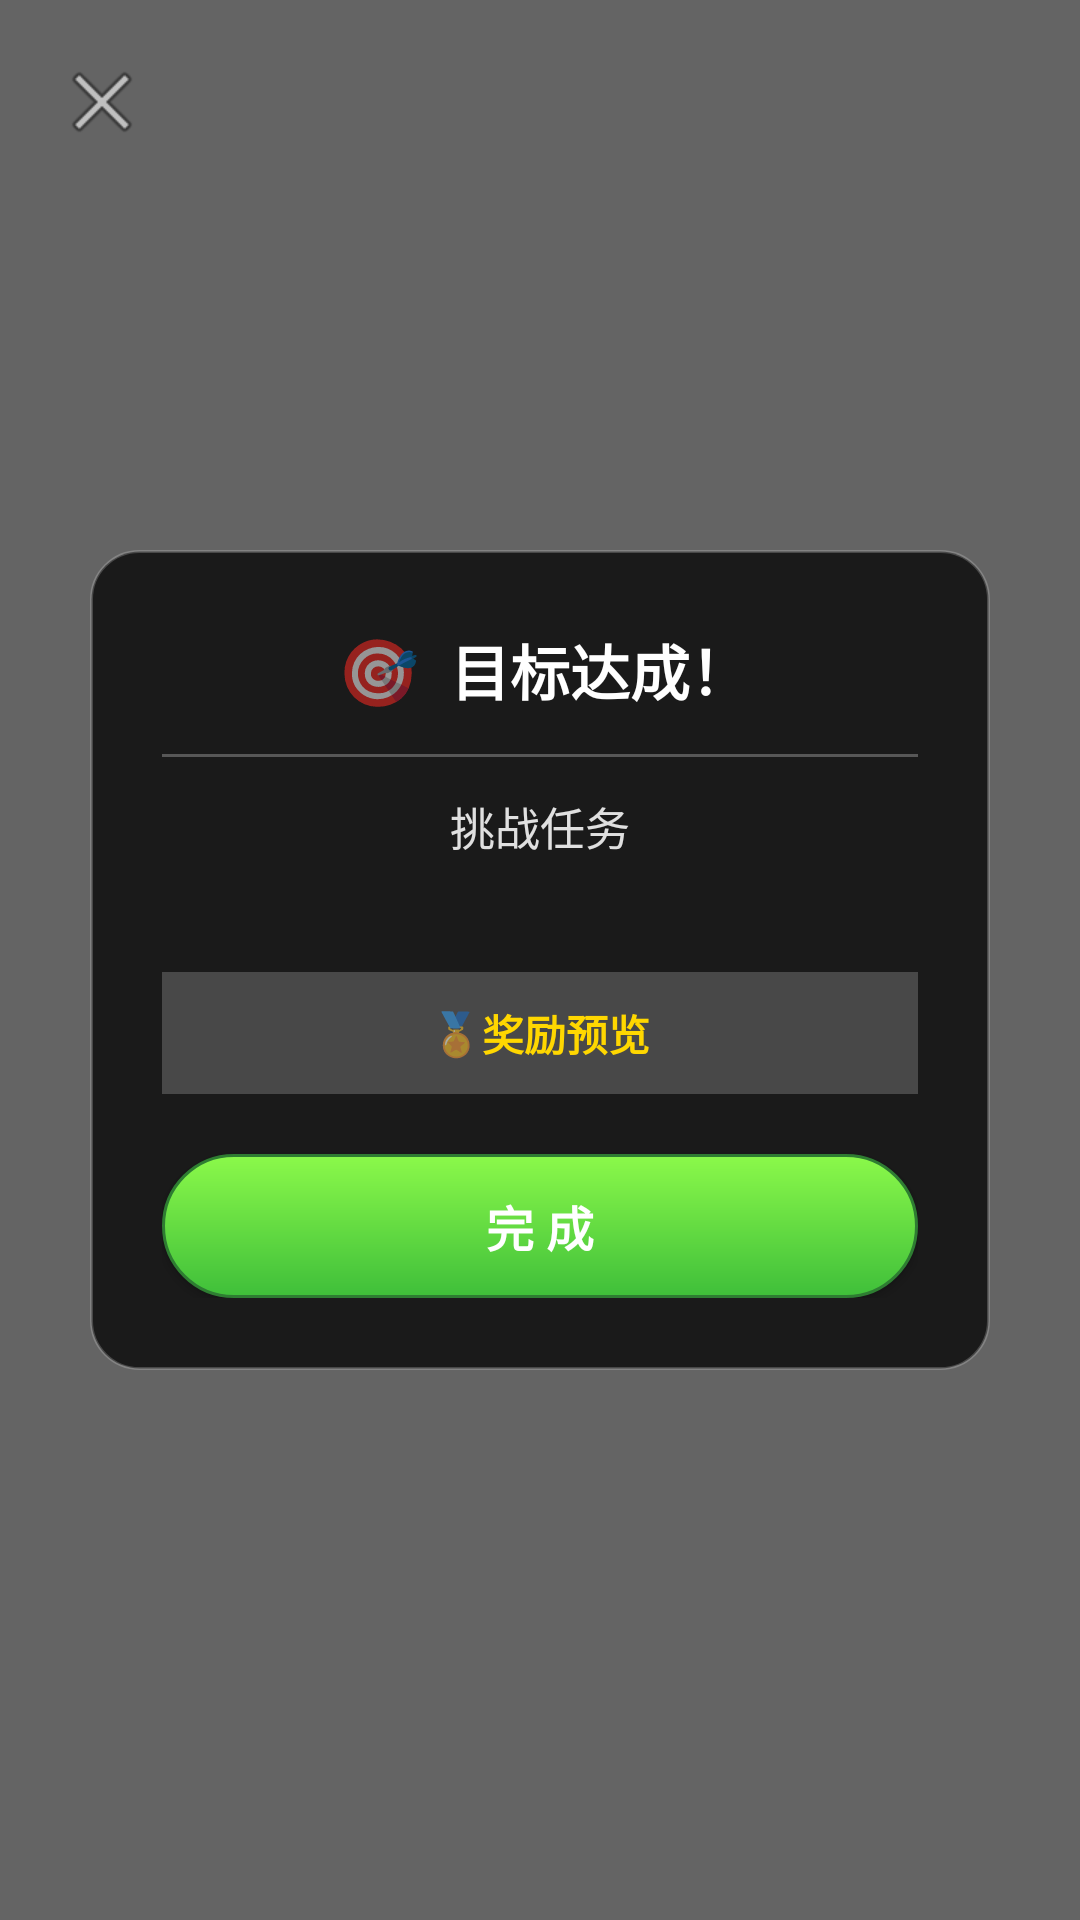

Locate icon controls on the screen. Image size 1080 x 1920, boxes as (x1, y1, x2, y2).
关闭: (73, 73, 131, 131)
